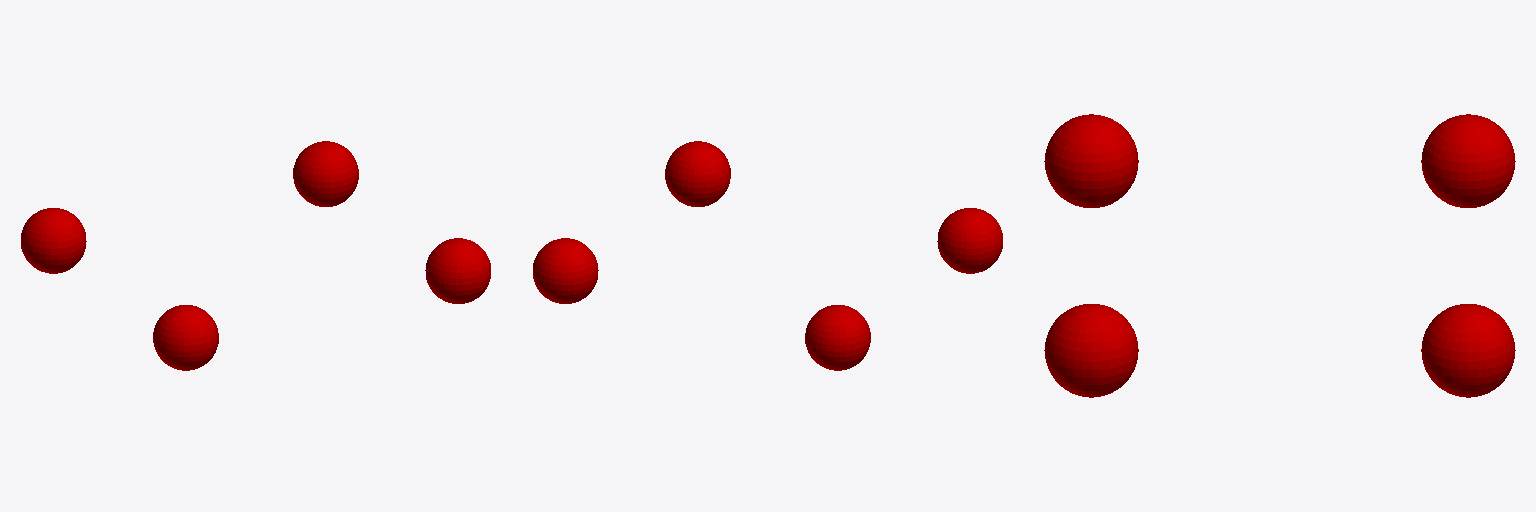
robot.urdf — materials:
<?xml version="1.0"?>
<robot name="materials">

  <material name="blue">
    <color rgba="0 0 0.8 1"/>
  </material>

  <material name="white">
    <color rgba="1 1 1 1"/>
  </material>

  <material name="red">
    <color rgba="0.8 0 0 1"/>
  </material>

  <link name="base_link">
    <collision>
    <origin rpy="1.57 0 -1.57"/>
        <geometry>
	  <mesh filename="package://STL_simulation/base_link.stl"/>
        </geometry>
    </collision>
    <inertial>
      <origin xyz="0.018 2.287E-04 0.01"/>
      <mass value="1.248" />
      <inertia ixx="0.002" ixy="7.984E-08" ixz="-2.045E-04"
                              iyy="0.007" iyz="-2.383E-06"
                                              izz="0.007" />
    </inertial>
    <visual>
      <origin rpy="1.57 0 -1.57"/>
      <geometry>
        <mesh filename="package://STL_simulation/base_link.stl"/>
      </geometry>
      <material name="blue"/>
    </visual>
  </link>


#FRONT RIGHT
  <link name="coxa_FR">
    <inertial>
      <mass value="0.075" />
      <inertia ixx="3.724E-05" ixy="9.731E-06"  ixz="0"
                                iyy="2.829E-05" iyz="0"
                                                 izz="5.581E-05" />
    </inertial>    
    <visual>
      <origin rpy="1.57 0 -1.57" xyz='0 0.04 0'/>
      <geometry>
        <mesh filename="package://STL_simulation/coxa_fr.stl"/>
      </geometry>
      <material name="red"/>
    </visual>
  </link>

  <link name="femur_FR">
    <inertial>
      <mass value="0.084" />
      <inertia ixx="7.552E-05" ixy="-3.399E-08"  ixz="9.599E-08"
                                iyy="6.041E-05" iyz="-1.244E-06"
                                                 izz="2.256E-05" />
    </inertial>   
    <visual>
      <geometry>
        <mesh filename="package://STL_simulation/femur_fr.stl"/>
      </geometry>
      <origin rpy="1.57 0 -1.57" xyz="-0.095 0.04 0"/>
      <material name="white"/>
    </visual>
  </link>

  <link name="tibia_FR">
    <inertial>
      <mass value="0.034" />
      <inertia ixx="3.218E-05" ixy="0.00" ixz="-4.239E-09"
                               iyy="3.195E-05"  iyz="0.00"
                                               izz="1.847E-06" />
    </inertial>   
    <visual>
      <geometry>
        <mesh filename="package://STL_simulation/tibia_fr.stl"/>
      </geometry>
      <origin rpy="1.57 0 -1.57"  xyz="-0.095 0.04 0.1"/>
      <material name="blue"/>
    </visual>
  </link>

  <link name="foot_FR">
    <collision>
      <geometry>
        <sphere radius="0.02"/>
      </geometry>
    </collision>
    <inertial>
      <mass value="0.0044" />
      <inertia ixx="7.04E-7" ixy="0.00" ixz="0.00"
                                 iyy="7.04E-7"  iyz="0.00"
                                                 izz="7.04E-7" />
    </inertial>   
    <visual>
      <geometry>
        <sphere radius="0.02"/>
      </geometry>
      <material name="red"/>
    </visual>
  </link>
  
  <joint name="coxaF_FR" type="revolute">
    <axis xyz="1 0 0"/>
    <limit effort="1000.0" velocity="0.5"/>
    <parent link="base_link"/>
    <child link="coxa_FR"/>
    <origin xyz="0 -0.04 0"/>
  </joint>

  <joint name="femurF_FR" type="revolute">
    <axis xyz="0 1 0"/>
    <limit effort="1000.0" velocity="0.5"/>
    <parent link="coxa_FR"/>
    <child link="femur_FR"/>
    <origin xyz="0.095 0 0"/>
  </joint>

  <joint name="tibiaF_FR" type="revolute">
    <axis xyz="0 1 0"/>
    <limit effort="1000.0" velocity="0.5"/>
    <parent link="femur_FR"/>
    <child link="tibia_FR"/>
    <origin xyz="0 0 -0.1"/>
  </joint>

  <joint name="footF_FR" type="fixed">
    <parent link="tibia_FR"/>
    <child link="foot_FR"/>
    <origin xyz="0 -0.04 -0.1"/>
  </joint>




#FRONT LEFT


  <link name="coxa_FL">
    <inertial>
      <mass value="0.075" />
      <inertia ixx="3.724E-05" ixy="-9.731E-06"  ixz="0"
                                iyy="2.829E-05" iyz="0"
                                                 izz="5.581E-05" />
    </inertial>    
    <visual>
      <origin rpy="1.57 0 -1.57" xyz='0 -0.04 0'/>
      <geometry>
        <mesh filename="package://STL_simulation/coxa_fl.stl"/>
      </geometry>
      <material name="red"/>
    </visual>
  </link>

  <link name="femur_FL">
    <inertial>
      <mass value="0.084" />
      <inertia ixx="7.552E-05" ixy="3.399E-08"  ixz="9.599E-08"
                                iyy="6.041E-05" iyz="1.244E-06"
                                                 izz="2.256E-05" />
    </inertial>   
    <visual>
      <geometry>
        <mesh filename="package://STL_simulation/femur_fl.stl"/>
      </geometry>
      <origin rpy="1.57 0 -1.57" xyz="-0.095 -0.04 0"/>
      <material name="white"/>
    </visual>
  </link>

  <link name="tibia_FL">
    <inertial>
      <mass value="0.034" />
      <inertia ixx="3.218E-05" ixy="0.00" ixz="-4.791E-09"
                               iyy="3.195E-05"  iyz="0.00"
                                               izz="1.847E-06" />
    </inertial>   
    <visual>
      <geometry>
        <mesh filename="package://STL_simulation/tibia_fl.stl"/>
      </geometry>
      <origin rpy="1.57 0 -1.57"  xyz="-0.095 -0.04 0.1"/>
      <material name="blue"/>
    </visual>
  </link>

  <link name="foot_FL">
    <collision>
      <geometry>
        <sphere radius="0.02"/>
      </geometry>
    </collision>
    <inertial>
      <mass value="0.0044" />
      <inertia ixx="7.04E-7" ixy="0.00" ixz="0.00"
                                 iyy="7.04E-7"  iyz="0.00"
                                                 izz="7.04E-7" />
    </inertial>   
    <visual>
      <geometry>
        <sphere radius="0.02"/>
      </geometry>
      <material name="red"/>
    </visual>
  </link>
  
  <joint name="coxaF_FL" type="revolute">
    <axis xyz="1 0 0"/>
    <limit effort="1000.0" velocity="0.5"/>
    <parent link="base_link"/>
    <child link="coxa_FL"/>
    <origin xyz="0 0.04 0"/>
  </joint>

  <joint name="femurF_FL" type="revolute">
    <axis xyz="0 1 0"/>
    <limit effort="1000.0" velocity="0.5"/>
    <parent link="coxa_FL"/>
    <child link="femur_FL"/>
    <origin xyz="0.095 0 0"/>
  </joint>

  <joint name="tibiaF_FL" type="revolute">
    <axis xyz="0 1 0"/>
    <limit effort="1000.0" velocity="0.5"/>
    <parent link="femur_FL"/>
    <child link="tibia_FL"/>
    <origin xyz="0 0 -0.1"/>
  </joint>

  <joint name="footF_FL" type="fixed">
    <parent link="tibia_FL"/>
    <child link="foot_FL"/>
    <origin xyz="0 0.04 -0.1"/>
  </joint>






#BACK RIGHT





  <link name="coxa_BR">
    <inertial>
      <mass value="0.09" />
      <origin xyz="0.0973055 -0.0661692 -0.00513185"/>
      <inertia ixx="4.690E-05" ixy="3.095E-06"  ixz="0.00"
                                iyy="2.886E-05" iyz="0.00"
                                                 izz="6.367E-05" />
    </inertial>    
    <visual>
      <origin rpy="1.57 0 -1.57" xyz='0 0.04 0'/>
      <geometry>
        <mesh filename="package://STL_simulation/coxa_br.stl"/>
      </geometry>
      <material name="red"/>
    </visual>
  </link>

  <link name="femur_BR">
    <inertial>
      <mass value="0.085" />
      <inertia ixx="7.605E-05" ixy="0.00"  ixz="0.00"
                                iyy="6.090E-05" iyz="-1.120E-06"
                                                 izz="2.264E-05" />
    </inertial>   
    <visual>
      <geometry>
        <mesh filename="package://STL_simulation/femur_br.stl"/>
      </geometry>
      <origin rpy="1.57 0 -1.57" xyz="0.095 0.04 0"/>
      <material name="white"/>
    </visual>
  </link>

  <link name="tibia_BR">
    <inertial>
      <mass value="0.034" />
      <inertia ixx="3.218E-05" ixy="0.00" ixz="-4.239E-09"
                               iyy="3.195E-05"  iyz="0.00"
                                               izz="1.847E-06" />
    </inertial>   
    <visual>
      <geometry>
        <mesh filename="package://STL_simulation/tibia_br.stl"/>
      </geometry>
      <origin rpy="1.57 0 -1.57"  xyz="0.095 0.04 0.1"/>
      <material name="blue"/>
    </visual>
  </link>

  <link name="foot_BR">
    <collision>
      <geometry>
        <sphere radius="0.02"/>
      </geometry>
    </collision>
    <inertial>
      <mass value="0.0044" />
      <inertia ixx="7.04E-7" ixy="0.00" ixz="0.00"
                                 iyy="7.04E-7"  iyz="0.00"
                                                 izz="7.04E-7" />
    </inertial>   
    <visual>
      <geometry>
        <sphere radius="0.02"/>
      </geometry>
      <material name="red"/>
    </visual>
  </link>
  
  <joint name="coxaF_BR" type="revolute">
    <axis xyz="1 0 0"/>
    <limit effort="1000.0" velocity="0.5"/>
    <parent link="base_link"/>
    <child link="coxa_BR"/>
    <origin xyz="0 -0.04 0"/>
  </joint>

  <joint name="femurF_BR" type="revolute">
    <axis xyz="0 1 0"/>
    <limit effort="1000.0" velocity="0.5"/>
    <parent link="coxa_BR"/>
    <child link="femur_BR"/>
    <origin xyz="-0.095 0 0"/>
  </joint>

  <joint name="tibiaF_BR" type="revolute">
    <axis xyz="0 1 0"/>
    <limit effort="1000.0" velocity="0.5"/>
    <parent link="femur_BR"/>
    <child link="tibia_BR"/>
    <origin xyz="0 0 -0.1"/>
  </joint>

  <joint name="footF_BR" type="fixed">
    <parent link="tibia_BR"/>
    <child link="foot_BR"/>
    <origin xyz="0 -0.04 -0.1"/>
  </joint>


#BACK LEFT




    <link name="coxa_BL">
    <inertial>
      <mass value="0.09" />
      <inertia ixx="4.690E-05" ixy="-3.095E-06"  ixz="0.00"
                                iyy="2.886E-05" iyz="0.00"
                                                 izz="6.367E-05" />
    </inertial>    
    <visual>
      <origin rpy="1.57 0 -1.57" xyz='0 -0.04 0'/>
      <geometry>
        <mesh filename="package://STL_simulation/coxa_bl.stl"/>
      </geometry>
      <material name="red"/>
    </visual>
  </link>

  <link name="femur_BL">
    <inertial>
      <mass value="0.085" />
      <inertia ixx="7.605E-05" ixy="0.00"  ixz="0.00"
                                iyy="6.090E-05" iyz="1.120E-06"
                                                 izz="2.264E-05" />
    </inertial>   
    <visual>
      <geometry>
        <mesh filename="package://STL_simulation/femur_bl.stl"/>
      </geometry>
      <origin rpy="1.57 0 -1.57" xyz="0.095 -0.04 0"/>
      <material name="white"/>
    </visual>
  </link>

  <link name="tibia_BL">
    <inertial>
      <mass value="0.034" />
      <inertia ixx="3.218E-05" ixy="0.00" ixz="-4.791E-09"
                               iyy="3.195E-05"  iyz="0.00"
                                               izz="1.847E-06" />
    </inertial>   
    <visual>
      <geometry>
        <mesh filename="package://STL_simulation/tibia_bl.stl"/>
      </geometry>
      <origin rpy="1.57 0 -1.57"  xyz="0.095 -0.04 0.1"/>
      <material name="blue"/>
    </visual>
  </link>

  <link name="foot_BL">
    <collision>
      <geometry>
        <sphere radius="0.02"/>
      </geometry>
    </collision>
    <inertial>
      <mass value="0.0044" />
      <inertia ixx="7.04E-7" ixy="0.00" ixz="0.00"
                                 iyy="7.04E-7"  iyz="0.00"
                                                 izz="7.04E-7" />
    </inertial>   
    <visual>
      <geometry>
        <sphere radius="0.02"/>
      </geometry>
      <material name="red"/>
    </visual>
  </link>
  
  <joint name="coxaF_BL" type="revolute">
    <axis xyz="1 0 0"/>
    <limit effort="1000.0" velocity="0.5"/>
    <parent link="base_link"/>
    <child link="coxa_BL"/>
    <origin xyz="0 0.04 0"/>
  </joint>

  <joint name="femurF_BL" type="revolute">
    <axis xyz="0 1 0"/>
    <limit effort="1000.0" velocity="0.5"/>
    <parent link="coxa_BL"/>
    <child link="femur_BL"/>
    <origin xyz="-0.095 0 0"/>
  </joint>

  <joint name="tibiaF_BL" type="revolute">
    <axis xyz="0 1 0"/>
    <limit effort="1000.0" velocity="0.5"/>
    <parent link="femur_BL"/>
    <child link="tibia_BL"/>
    <origin xyz="0 0 -0.1"/>
  </joint>

  <joint name="footF_BL" type="fixed">
    <parent link="tibia_BL"/>
    <child link="foot_BL"/>
    <origin xyz="0 0.04 -0.1"/>
  </joint>
</robot>

--- What the picture shows (computed from the rendered views, not written in the file) ---
Views: 3 orthographic renders of the robot side by side, from view 1: azimuth 30°, elevation 25°; view 2: azimuth 150°, elevation 25°; view 3: azimuth 270°, elevation 25°.
Model materials with 17 links and 16 joints (12 revolute, 4 fixed), rooted at base_link, posed all joints at 0.
Links seen in each view (by area): view 1: foot_FR, foot_FL, foot_BR, foot_BL; view 2: foot_FR, foot_FL, foot_BR, foot_BL; view 3: foot_FR, foot_FL, foot_BR, foot_BL.
Link boxes in pixels (bbox=[...]): foot_FR: bbox=[425, 238, 490, 303]; foot_FL: bbox=[293, 141, 358, 206]; foot_BR: bbox=[153, 305, 218, 370]; foot_BL: bbox=[21, 208, 86, 273]; foot_FR: bbox=[665, 141, 730, 206]; foot_FL: bbox=[533, 238, 598, 303]; foot_BR: bbox=[937, 208, 1002, 273]; foot_BL: bbox=[805, 305, 870, 370]; foot_FR: bbox=[1044, 304, 1138, 397]; foot_FL: bbox=[1421, 304, 1515, 397]; foot_BR: bbox=[1044, 114, 1138, 207]; foot_BL: bbox=[1421, 114, 1515, 207].
Size in the robot's own frame: 0.23 by 0.2 by 0.04 metres.
Meshes: 13 distinct files referenced, 0 mesh visuals loaded (none loaded); not drawn: 13 (reference not matched to a file when rendering).